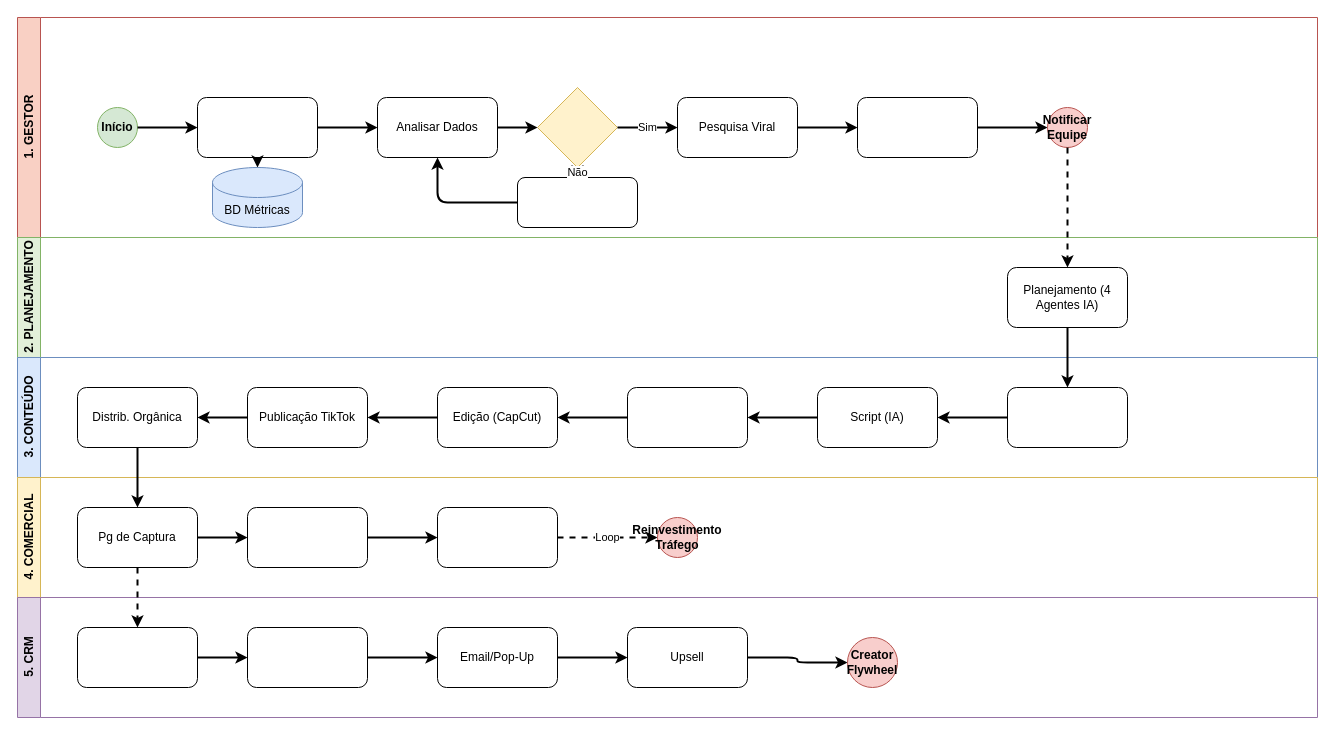
Image size: 1335x735. Some labels were removed from this diagram. Here are the shapes that lost their labels. From the top down, the centre of each, then its label:
At (x=257, y=127): "Coletar Feedbacks Semanais".
At (x=577, y=127): "Dados Suficientes?".
At (x=917, y=127): "Criar Playbook".
At (x=577, y=202): "Aprofundar Coleta".
At (x=687, y=417): "Gravação".
At (x=1067, y=417): "Pesquisa Refs".
At (x=307, y=537): "Oferta(Cliente)".
At (x=497, y=537): "Checkout".
At (x=137, y=657): "Tag / HubSpot".
At (x=307, y=657): "Filtros Qualif".
